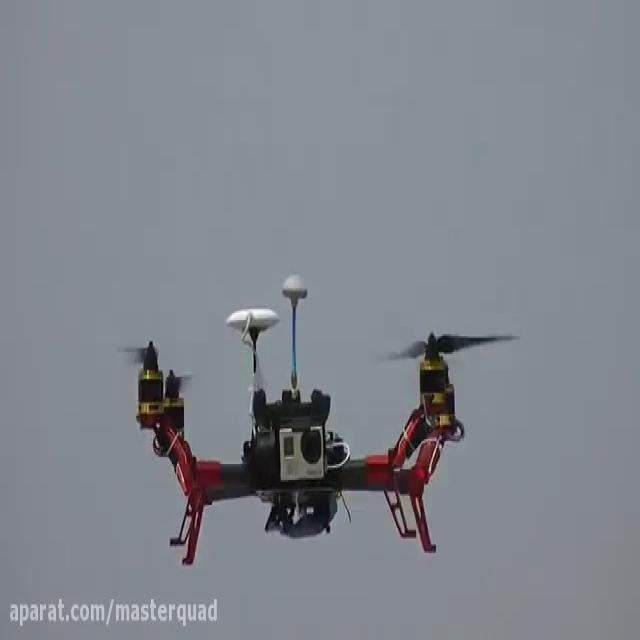drone: (111, 267, 523, 569)
